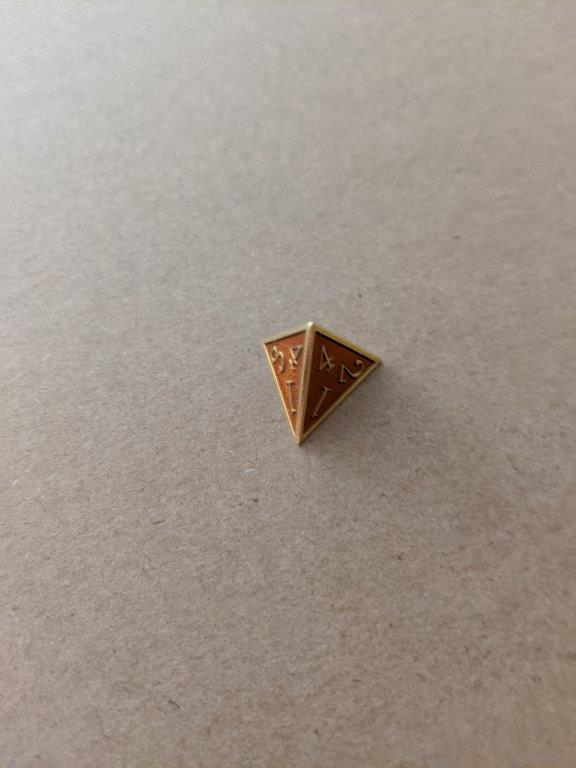d4-4: (259, 323, 385, 452)
